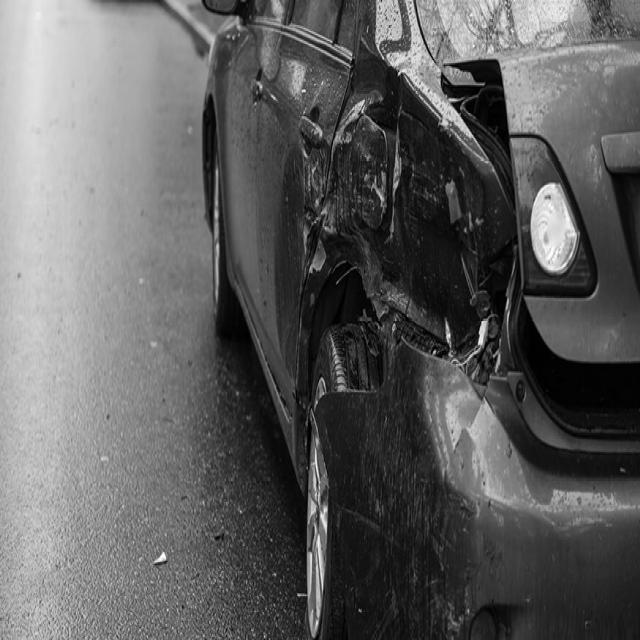crush: (267, 58, 640, 640)
